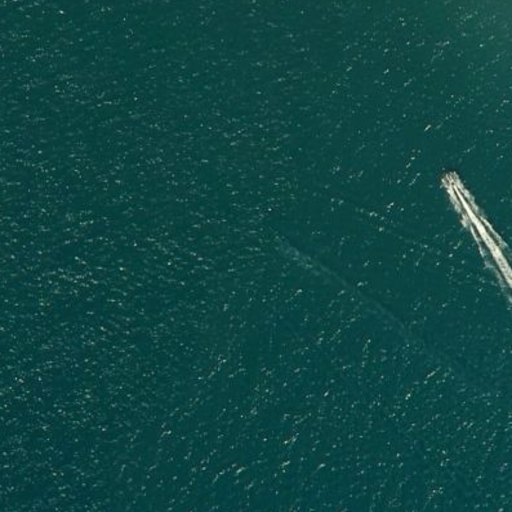ship: (443, 170, 460, 197)
